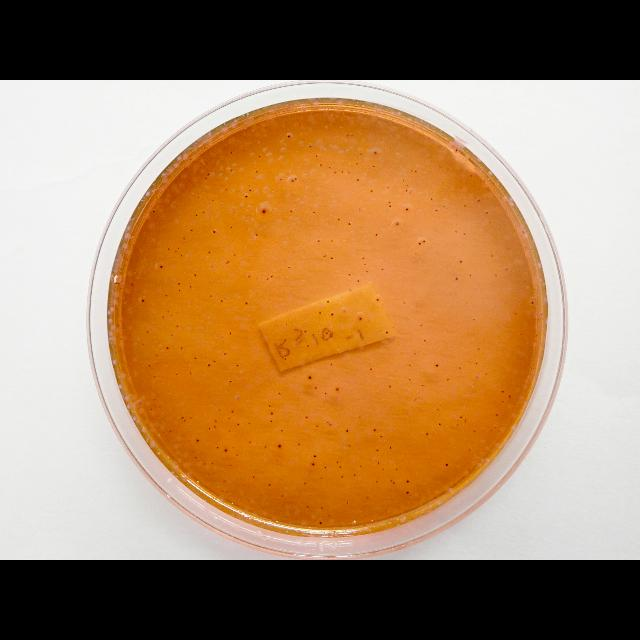colony: (262, 209, 266, 215), (485, 210, 489, 216), (347, 444, 353, 448), (287, 135, 291, 139), (160, 265, 164, 269), (116, 324, 120, 328), (148, 364, 152, 368), (196, 438, 200, 442), (270, 411, 274, 415), (263, 445, 267, 449), (311, 462, 315, 466), (280, 494, 284, 498), (268, 483, 272, 487), (306, 505, 310, 509), (308, 376, 312, 380), (438, 422, 442, 426), (278, 392, 282, 396), (306, 344, 310, 348), (314, 154, 318, 158), (434, 208, 438, 212), (454, 276, 458, 280), (472, 318, 476, 322), (419, 323, 423, 327), (388, 384, 392, 388), (375, 298, 379, 302), (418, 242, 422, 246), (289, 209, 293, 213), (152, 209, 156, 213), (408, 363, 412, 367), (165, 294, 168, 298), (167, 310, 170, 314), (180, 346, 183, 350), (189, 370, 191, 376), (228, 381, 232, 384), (237, 422, 240, 426), (225, 448, 228, 452), (248, 441, 252, 444), (278, 443, 280, 449), (207, 172, 210, 176), (230, 168, 233, 172), (346, 134, 349, 138), (356, 178, 359, 182), (331, 256, 334, 260), (207, 250, 211, 253), (424, 338, 426, 344), (245, 195, 248, 198), (220, 202, 223, 205), (257, 156, 261, 158), (248, 189, 252, 191), (256, 233, 258, 237), (190, 228, 192, 232), (168, 247, 170, 251), (178, 282, 180, 286), (194, 273, 196, 277), (190, 285, 192, 289), (178, 288, 180, 292), (142, 342, 144, 346), (166, 346, 168, 350), (193, 357, 197, 359), (208, 363, 210, 367), (212, 360, 216, 362), (224, 352, 226, 356), (236, 364, 238, 368), (228, 417, 230, 421), (218, 408, 220, 412), (204, 462, 206, 466), (269, 404, 271, 408), (281, 428, 283, 432), (276, 458, 278, 462), (298, 442, 300, 446), (314, 454, 316, 458), (321, 506, 323, 510), (339, 464, 341, 468), (359, 464, 361, 468), (324, 392, 326, 396), (336, 387, 338, 391), (314, 387, 318, 389), (330, 362, 332, 366), (408, 378, 412, 380), (509, 394, 511, 398), (426, 432, 428, 436), (266, 278, 270, 280), (271, 274, 273, 278), (288, 266, 290, 270), (402, 178, 404, 182), (530, 302, 534, 304), (446, 463, 448, 467), (286, 322, 288, 326), (284, 338, 286, 342), (319, 311, 321, 315), (327, 300, 329, 304), (331, 312, 333, 316), (360, 317, 362, 321), (309, 144, 311, 148), (320, 163, 322, 167), (370, 189, 372, 193), (396, 222, 398, 226), (229, 331, 231, 335), (234, 253, 236, 257), (212, 198, 214, 202), (292, 179, 294, 183), (294, 178, 298, 180), (455, 148, 457, 152), (431, 197, 433, 201), (455, 230, 457, 234), (491, 254, 493, 258), (460, 260, 462, 264), (520, 332, 522, 336), (485, 372, 487, 376), (342, 310, 346, 312), (422, 240, 426, 242), (312, 211, 316, 213), (130, 284, 134, 286), (358, 207, 360, 211), (374, 428, 376, 432), (256, 170, 258, 173), (248, 185, 250, 188), (212, 230, 215, 232), (195, 214, 198, 216), (178, 247, 180, 250), (180, 255, 182, 258), (175, 312, 178, 314), (170, 334, 173, 336), (146, 331, 148, 334), (231, 411, 233, 414), (217, 446, 220, 448), (227, 457, 230, 459), (337, 461, 339, 464), (321, 476, 323, 479), (446, 379, 449, 381), (502, 401, 504, 404), (436, 409, 439, 411), (390, 446, 392, 449), (376, 450, 379, 452), (376, 481, 378, 484), (406, 480, 409, 482), (220, 300, 223, 302), (245, 302, 248, 304), (225, 188, 228, 190), (356, 162, 358, 165), (356, 280, 359, 282), (342, 170, 344, 173), (329, 167, 331, 170), (388, 200, 390, 203), (389, 205, 391, 208), (348, 222, 350, 225), (331, 240, 334, 242), (324, 255, 326, 258), (227, 260, 230, 262), (202, 210, 204, 213), (464, 232, 466, 235), (476, 348, 479, 350), (476, 376, 478, 379), (386, 331, 388, 334), (230, 152, 232, 154), (230, 226, 232, 228), (175, 250, 177, 252), (142, 300, 144, 302), (162, 316, 164, 318), (171, 314, 173, 316), (176, 325, 178, 327), (156, 355, 158, 357), (176, 373, 178, 375), (248, 422, 250, 424), (215, 420, 217, 422), (214, 426, 216, 428), (208, 428, 210, 430), (229, 430, 231, 432), (190, 417, 192, 419), (182, 417, 184, 419), (184, 420, 186, 422), (169, 430, 171, 432), (195, 456, 197, 458), (211, 462, 213, 464), (236, 454, 238, 456), (230, 464, 232, 466), (270, 420, 272, 422), (324, 466, 326, 468), (304, 482, 306, 484), (320, 522, 322, 524), (341, 476, 343, 478), (353, 474, 355, 476), (346, 430, 348, 432), (326, 421, 328, 423), (316, 425, 318, 427), (306, 417, 308, 419), (330, 424, 332, 426), (359, 416, 361, 418), (370, 368, 372, 370), (422, 385, 424, 387), (436, 364, 438, 366), (475, 362, 477, 364), (459, 367, 461, 369), (502, 390, 504, 392), (496, 414, 498, 416), (474, 430, 476, 432), (460, 416, 462, 418), (465, 419, 467, 421), (457, 424, 459, 426), (380, 436, 382, 438), (378, 462, 380, 464), (382, 468, 384, 470), (396, 468, 398, 470), (390, 480, 392, 482), (393, 482, 395, 484), (406, 492, 408, 494), (253, 476, 255, 478), (210, 295, 212, 297), (248, 276, 250, 278), (205, 178, 207, 180), (374, 152, 376, 154), (360, 153, 362, 155), (373, 165, 375, 167), (407, 184, 409, 186), (406, 190, 408, 192), (415, 171, 417, 173), (442, 182, 444, 184), (478, 200, 480, 202), (489, 222, 491, 224), (464, 421, 466, 423), (304, 330, 306, 332), (284, 358, 286, 360), (348, 274, 350, 276), (366, 271, 368, 273), (381, 268, 383, 270), (364, 263, 366, 265), (362, 257, 364, 259), (375, 234, 377, 236), (348, 172, 350, 174), (334, 171, 336, 173), (387, 186, 389, 188), (406, 208, 408, 210), (338, 218, 340, 220), (318, 240, 320, 242), (350, 289, 352, 291), (221, 336, 223, 338), (226, 262, 228, 264), (211, 266, 213, 268), (197, 196, 199, 198), (206, 196, 208, 198), (280, 178, 282, 180), (443, 206, 445, 208), (506, 268, 508, 270), (495, 274, 497, 276), (469, 274, 471, 276), (471, 175, 472, 177)
